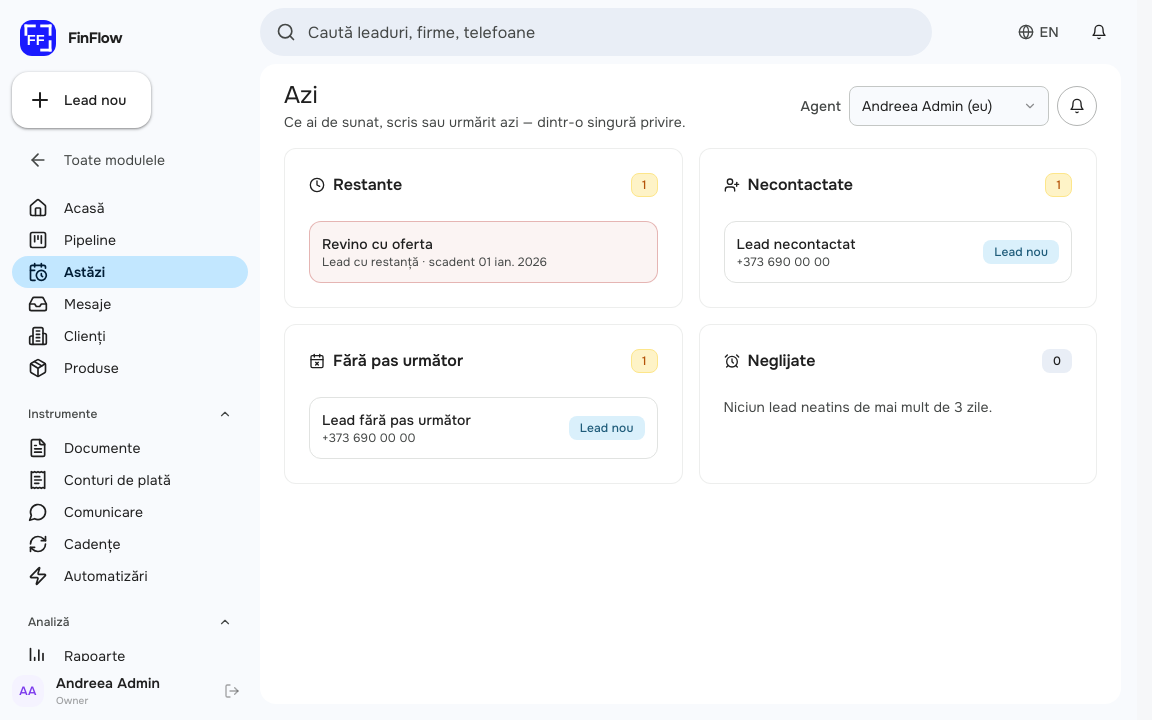
it: CRM — CrmTodayPage › arată cele patru gălețile, cu numărul corect, și deschide fișa la click pe un rând
Expected: the text "Lead necontactat" is shown, [736, 235, 856, 253]
Expected: the text "Revino cu oferta" is shown, [322, 235, 433, 253]
Click the text "Lead fără pas următor".
click(396, 420)  # box [322, 411, 471, 429]
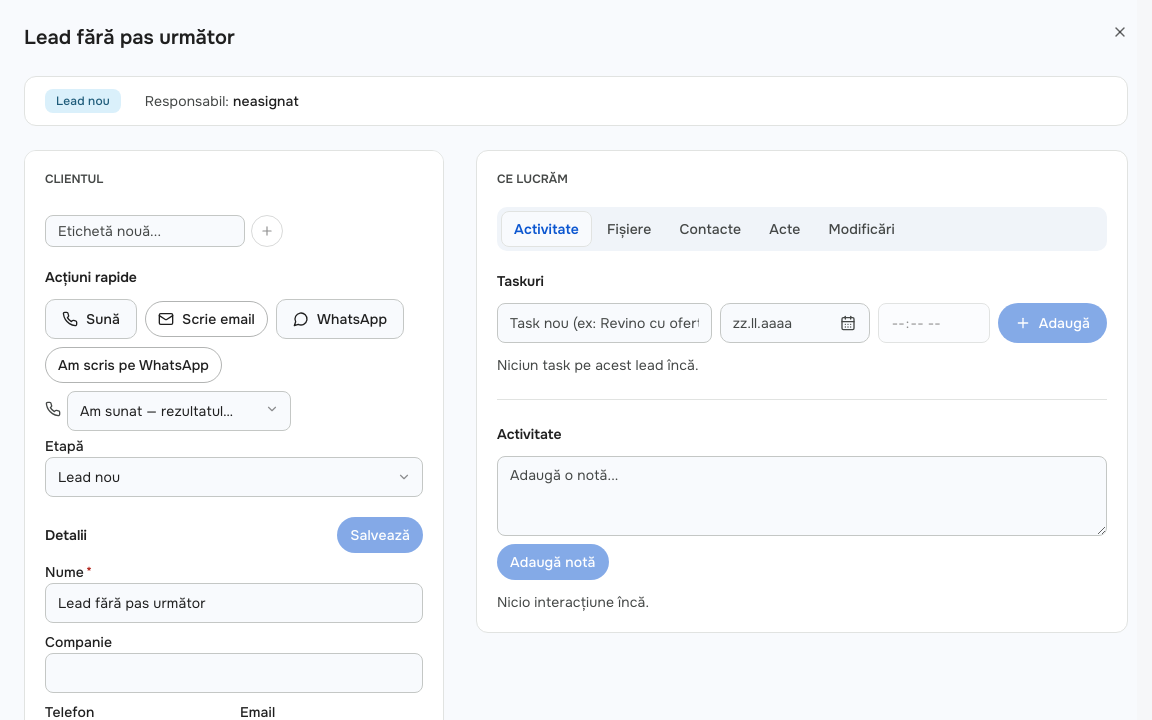
Expected: the heading "Detalii" is shown, [45, 525, 87, 545]
